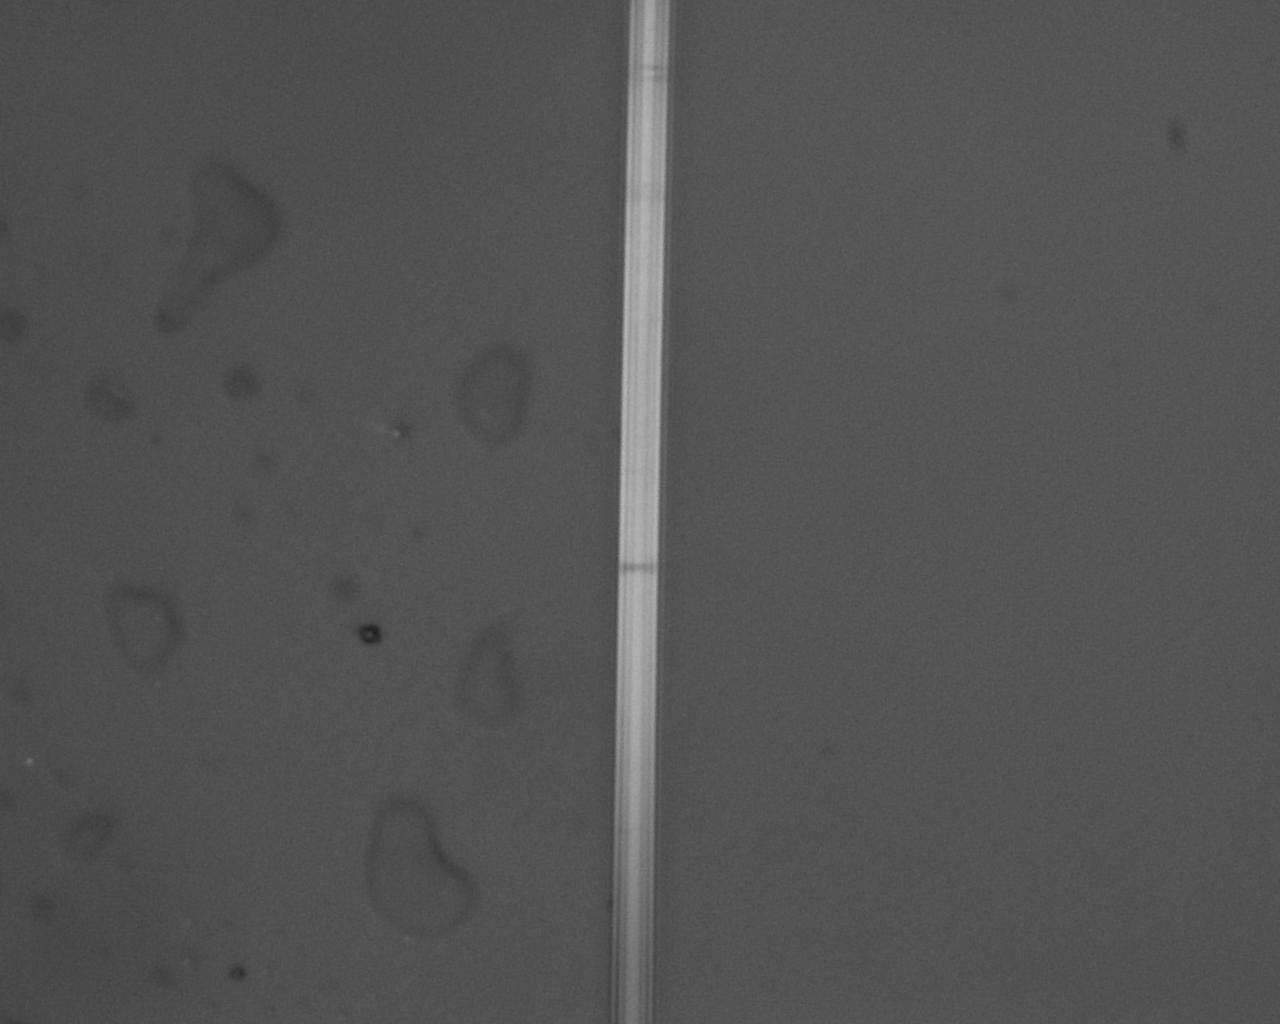fiber: (437, 0, 981, 1024)
